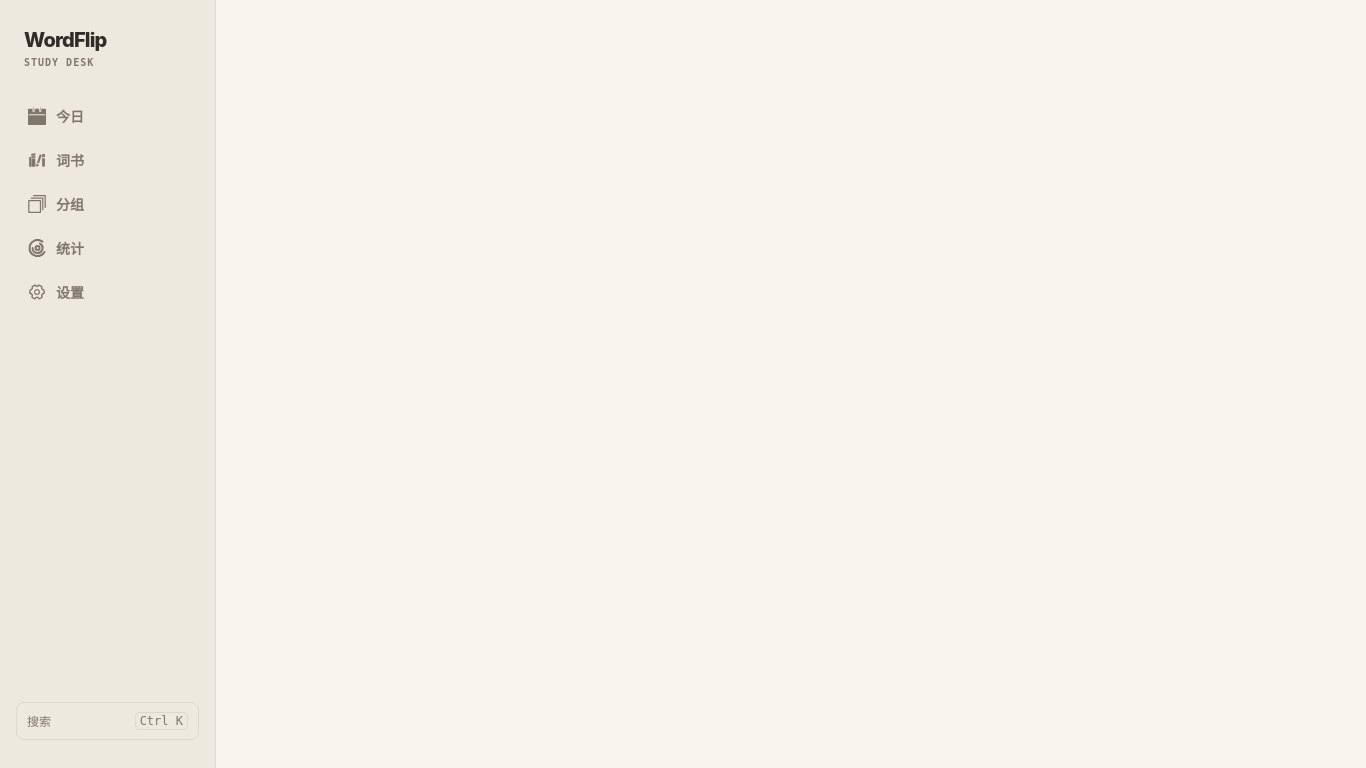
Test: 点击命令面板背景会关闭面板
The image size is (1366, 768).
Type keys "{Control>}k{/Control}"
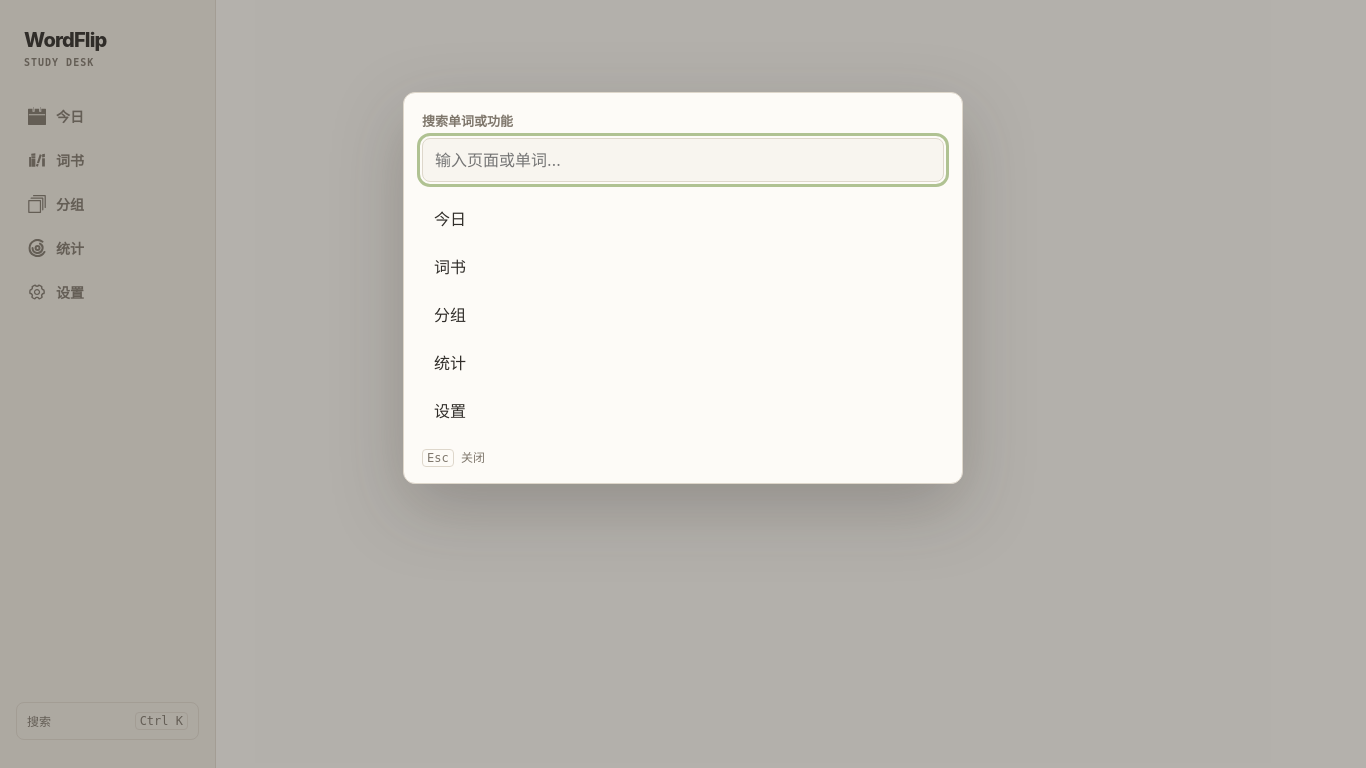
Click the dialog at (82, 384), box x1=0 y1=0 x2=1365 y2=767
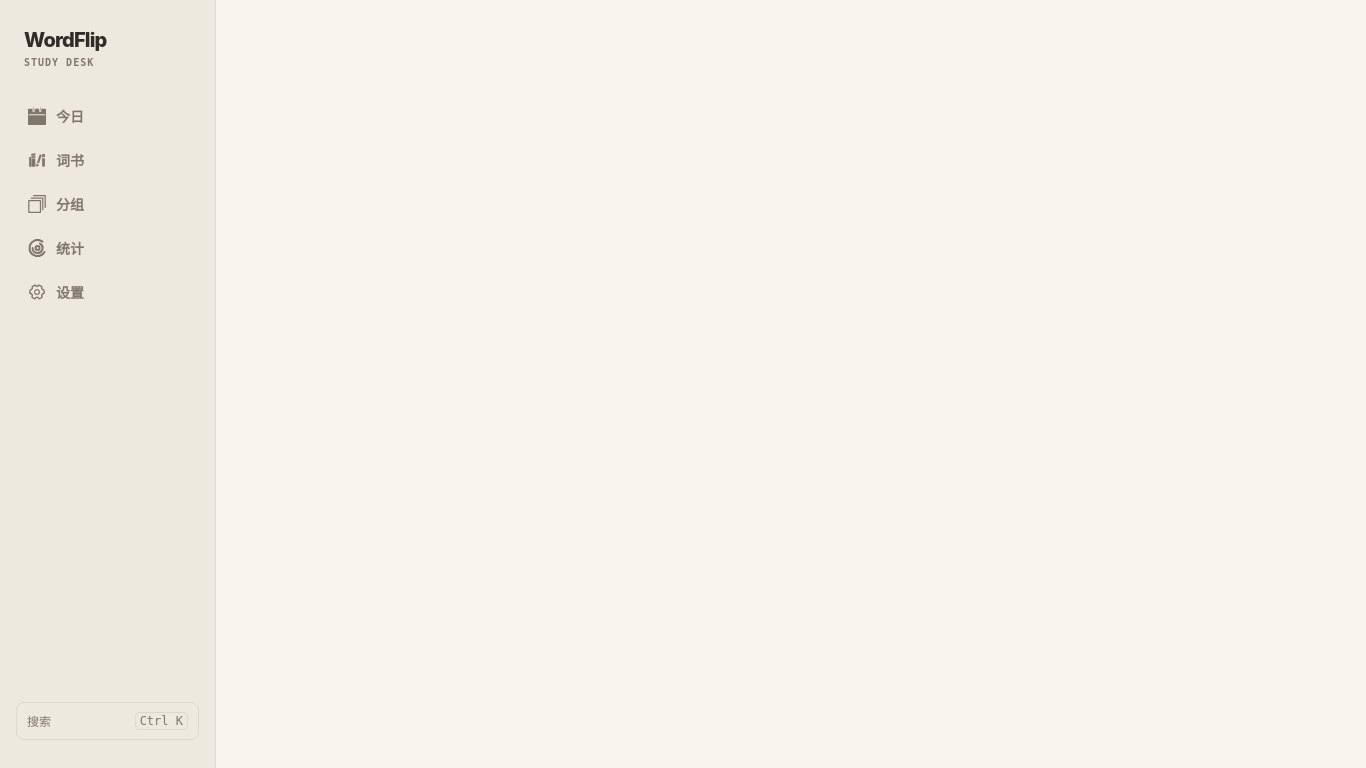
Result: the dialog is gone
